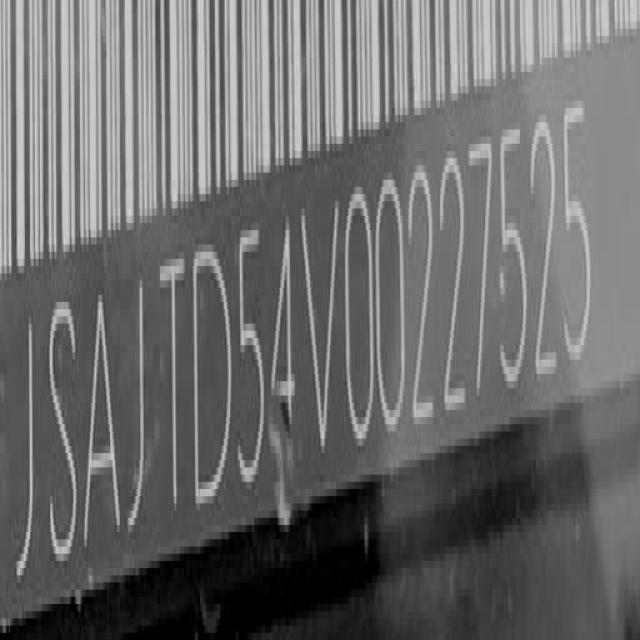0: (344, 183, 374, 461), (375, 171, 404, 449)
2: (438, 147, 467, 428), (532, 112, 560, 387), (408, 154, 434, 426)
4: (270, 215, 298, 482)
5: (234, 219, 265, 497), (562, 94, 592, 376), (499, 119, 528, 399)
7: (466, 129, 493, 412)
A: (84, 287, 120, 555)
D: (194, 233, 234, 511)
J: (12, 312, 36, 599), (127, 258, 146, 538)
S: (45, 291, 77, 573)
T: (158, 248, 186, 538)
V: (300, 186, 340, 445)
